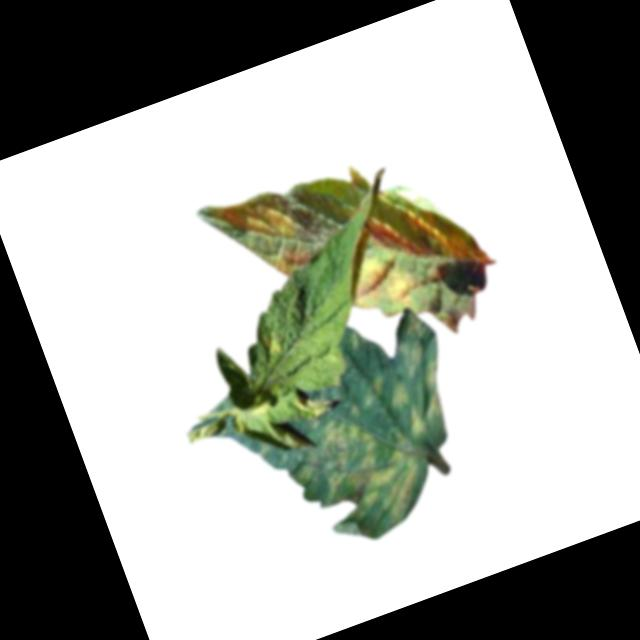Leaf_Mold: (283, 393, 436, 551), (363, 176, 489, 296), (370, 310, 462, 440), (212, 182, 319, 293), (336, 241, 421, 325), (258, 327, 290, 361)
